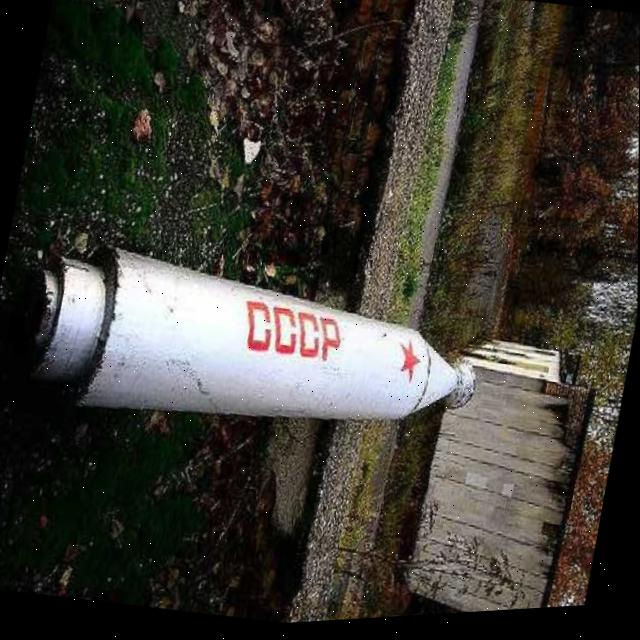missile: (5, 224, 492, 484)
